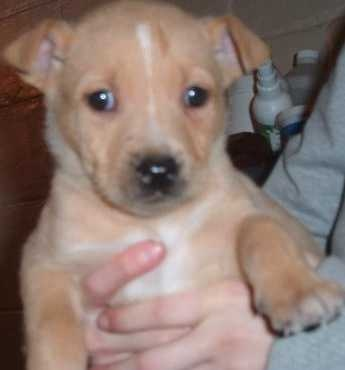dog: (12, 12, 283, 318)
